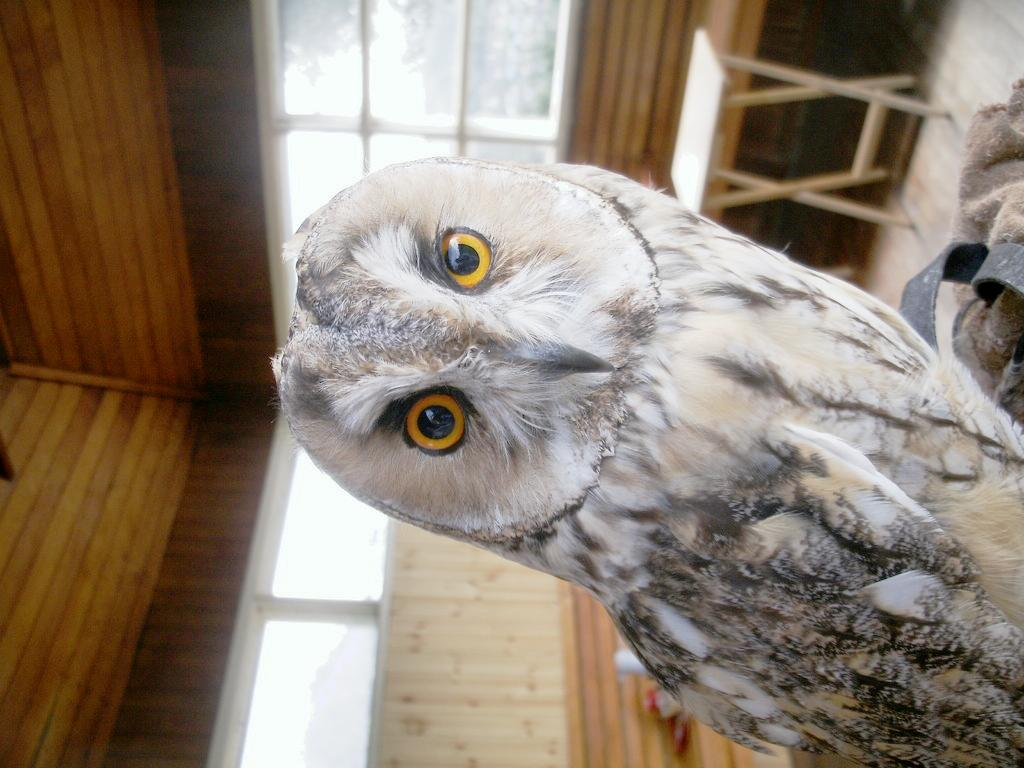Owl: (270, 150, 1024, 768)
